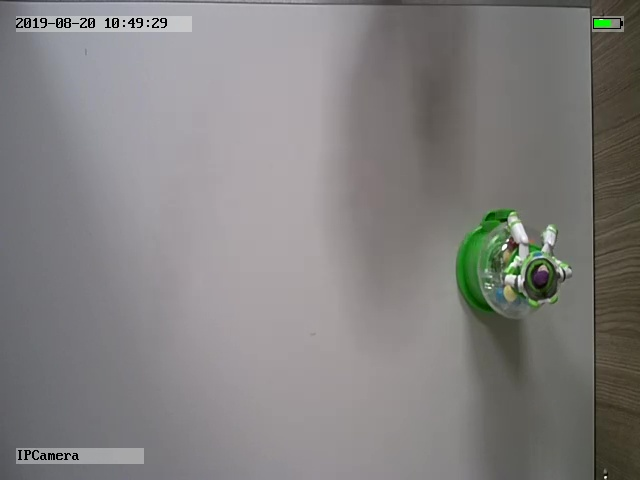buzz: (453, 205, 574, 326)
